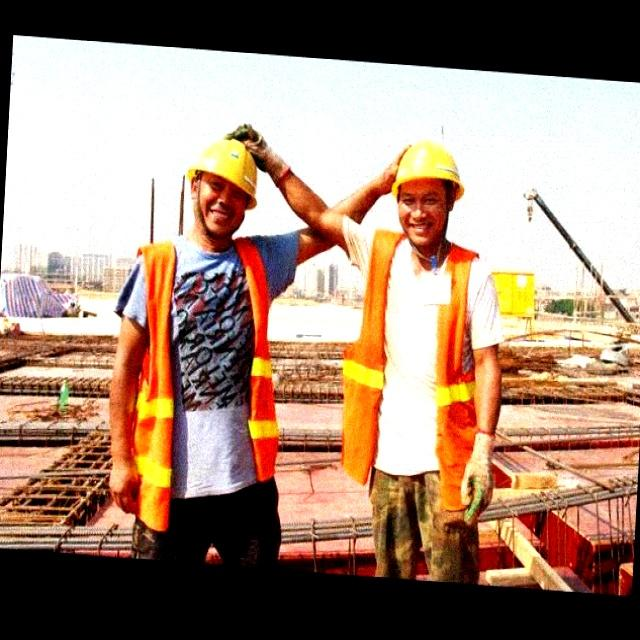helmet: (186, 127, 270, 205), (392, 136, 470, 198)
safety_vest: (125, 232, 292, 544), (338, 212, 484, 493)
